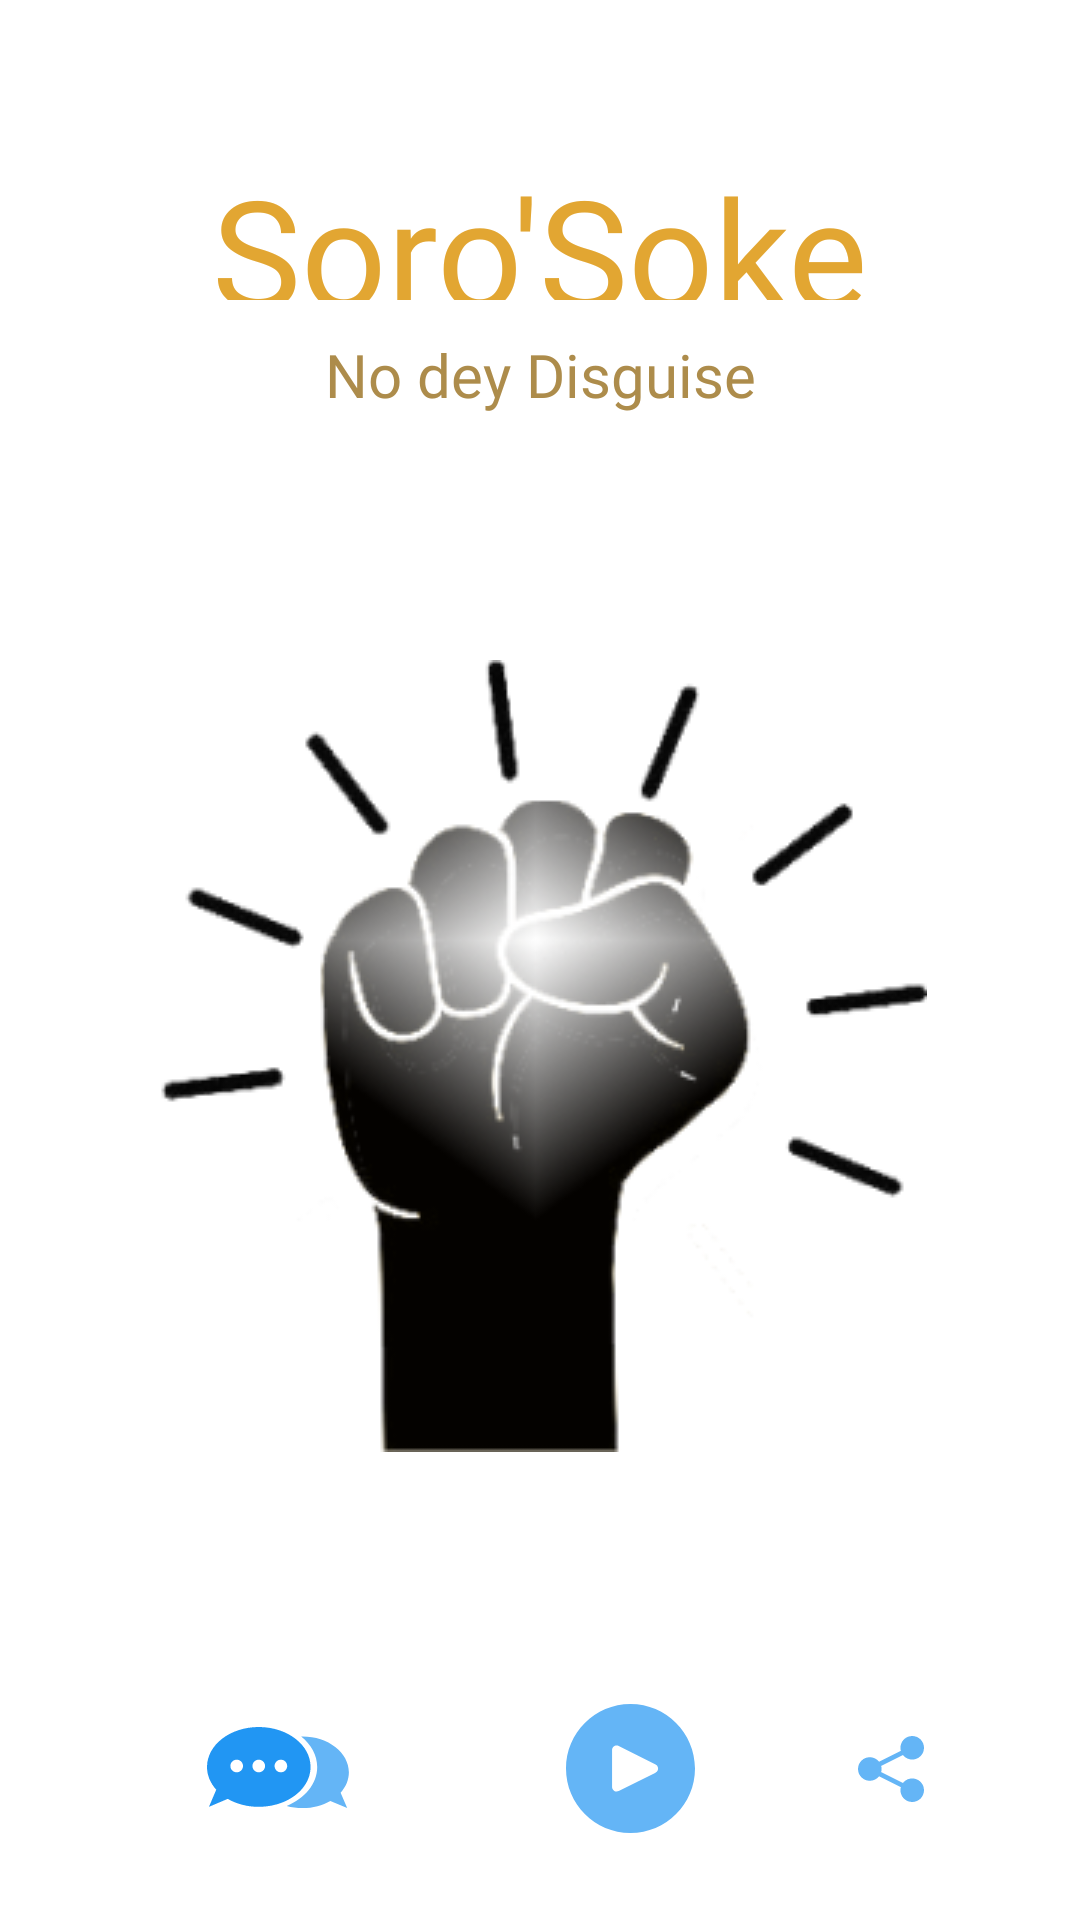

Icons on this 1080×1920 Android screen, each with its box as (x1, y1, x2, y2):
comment: (207, 1727, 349, 1808)
play: (566, 1704, 695, 1833)
Share Button: (858, 1736, 924, 1802)
